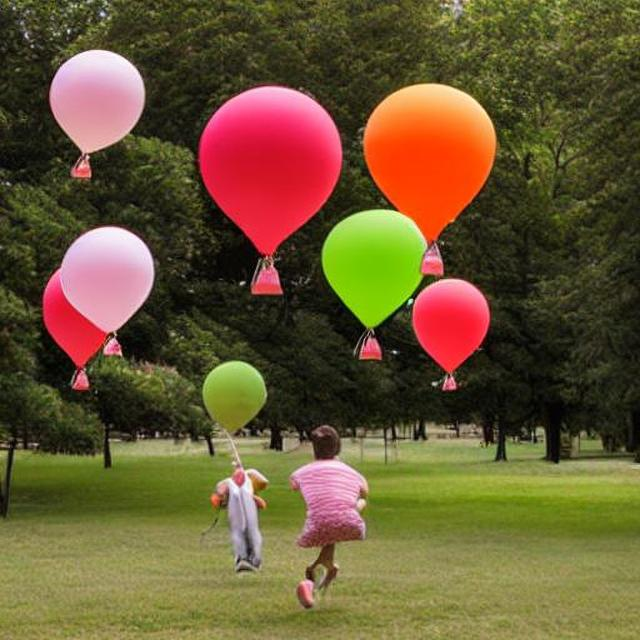balloon: (346, 80, 494, 348), (190, 81, 344, 291), (40, 218, 156, 390), (41, 46, 145, 176), (404, 273, 489, 395), (197, 357, 268, 432)
